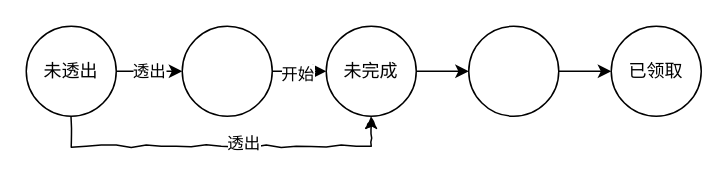
This 728x185 diagram has some shape labels left out. Here are the shapes that lost their labels. From the top down, the centre of each, then its label:
At [226,70]: "未开始".
At [513,70]: "未领取".
